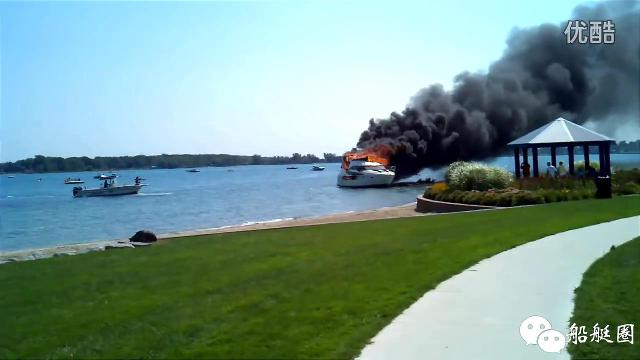fire: (368, 153, 380, 161), (377, 156, 387, 164), (350, 153, 366, 158)
